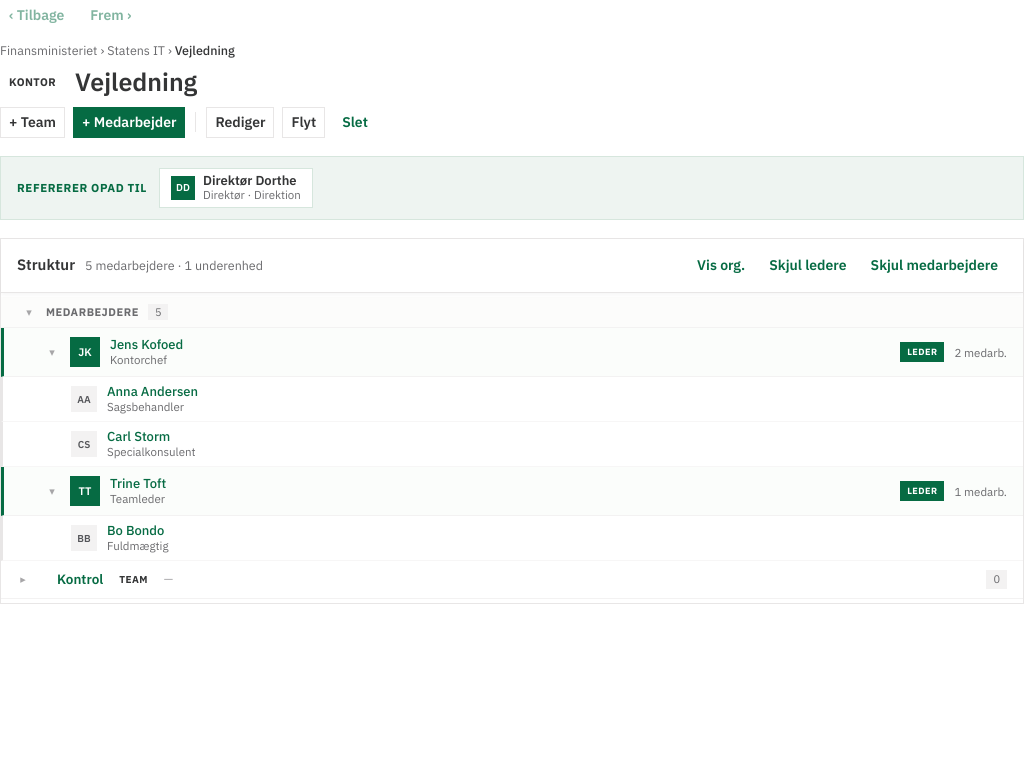
Scenario: Unit structure mutations (TASK-10801) + gating (TASK-10803) › surfaces a 412 stale conflict inline (no refetch)
Click the button with test id "unit-action-edit" at (240, 122), box [206,106,274,138]
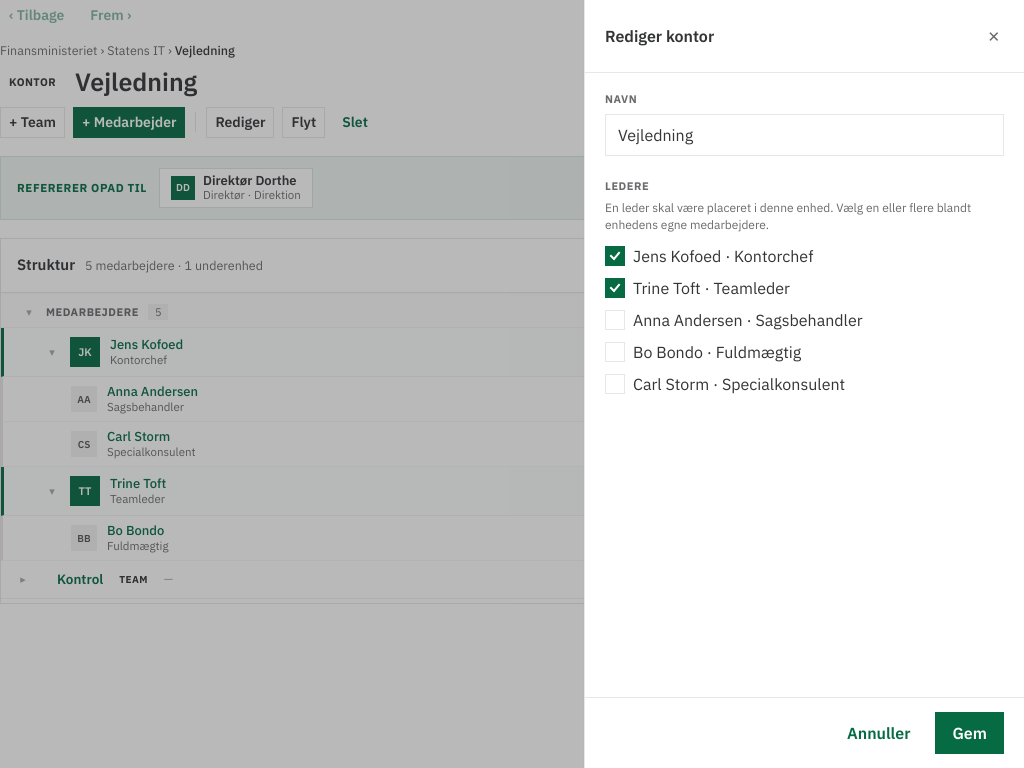
Replace the text in the field with test id "unit-drawer-name" with "Andet navn" at (804, 134), box [605,114,1004,156]
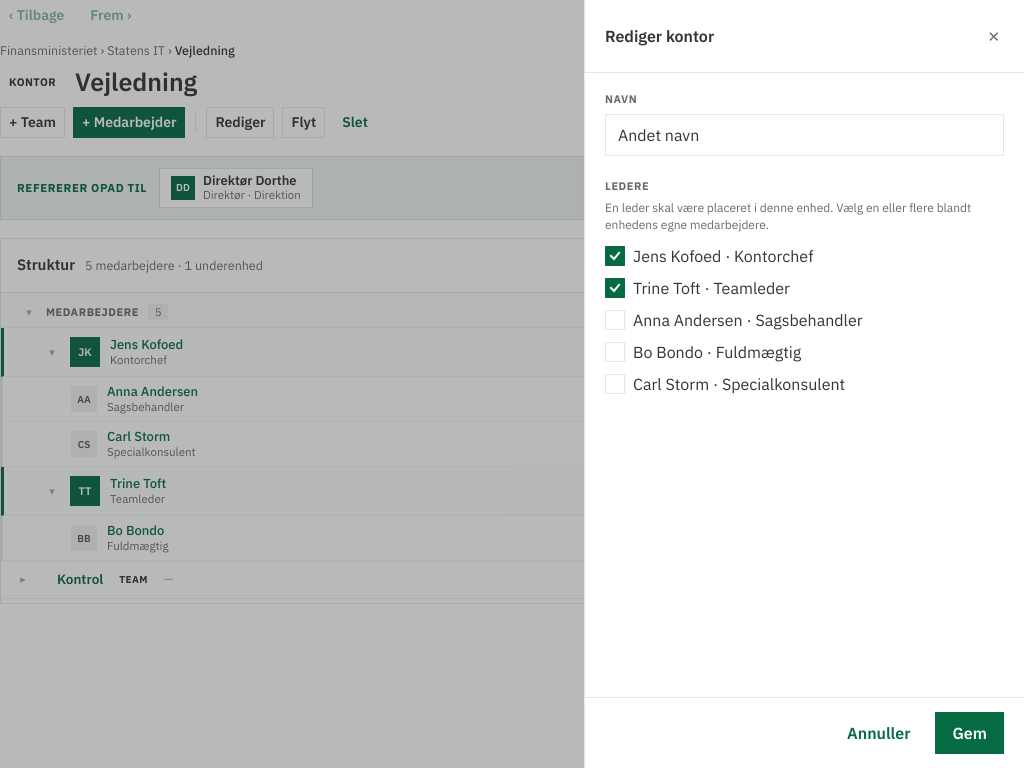
Click the button with test id "unit-drawer-submit" at (970, 733), box [936,712,1004,754]
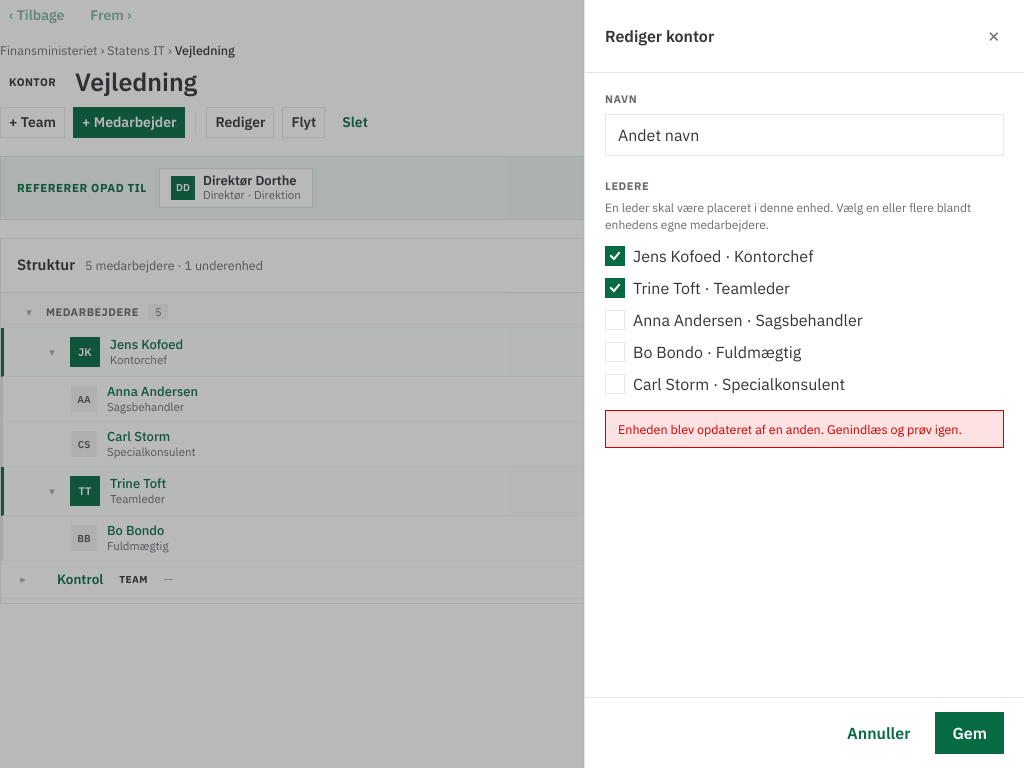
Check: the message "Enheden blev opdateret af en anden. Genindlæs og prøv igen." is shown, box [605,410,1004,448]
Check: the message with test id "unit-drawer-error" shows "opdateret af en anden", box [618,421,962,437]
